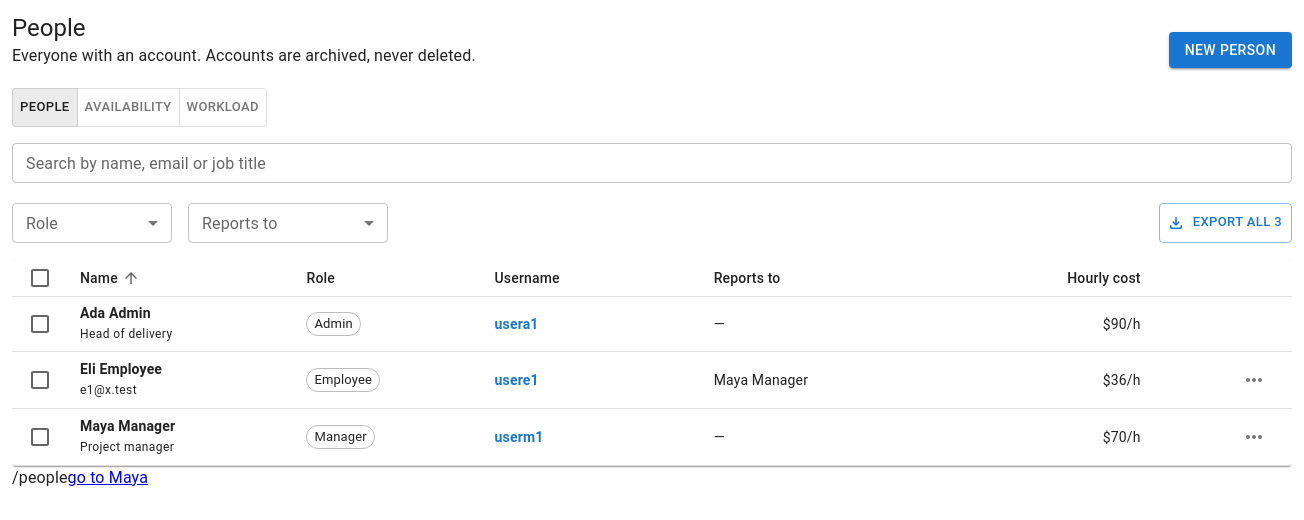
Test case: PeoplePage as an admin › keeps New password and Archive in one row menu, and gives the admin's own row none
Expected: the text "Eli Employee" is shown, x1=80 y1=361 x2=162 y2=377
Click the button named "Actions for Eli Employee": (1254, 380) x1=1232 y1=358 x2=1276 y2=402
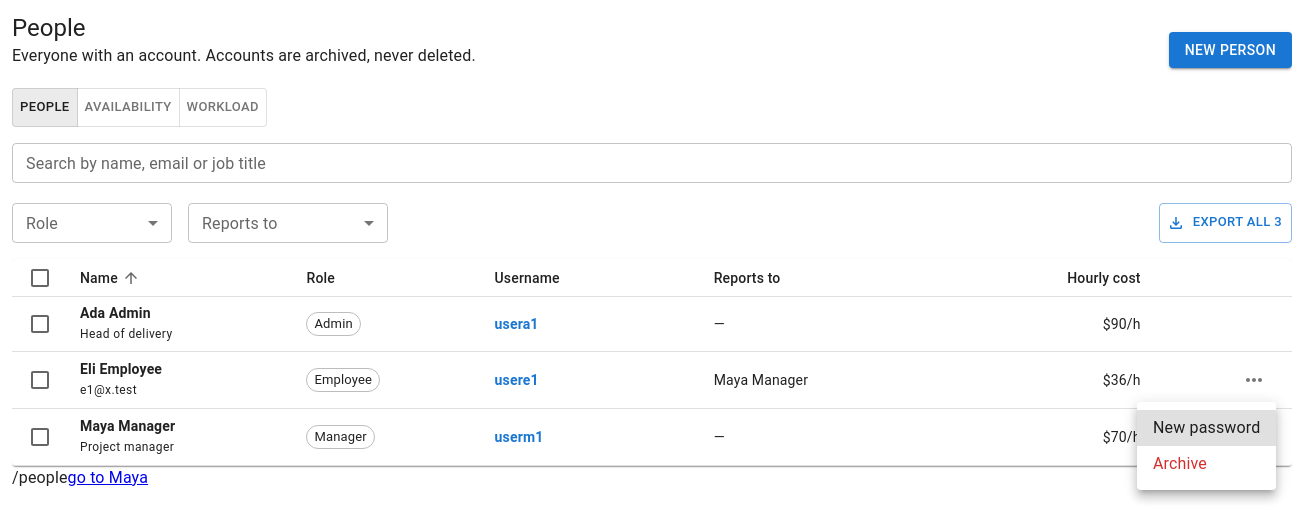
Expected: the menu item "New password" is shown, x1=1137 y1=410 x2=1276 y2=446
Expected: the menu item "Archive" is shown, x1=1153 y1=454 x2=1207 y2=473
